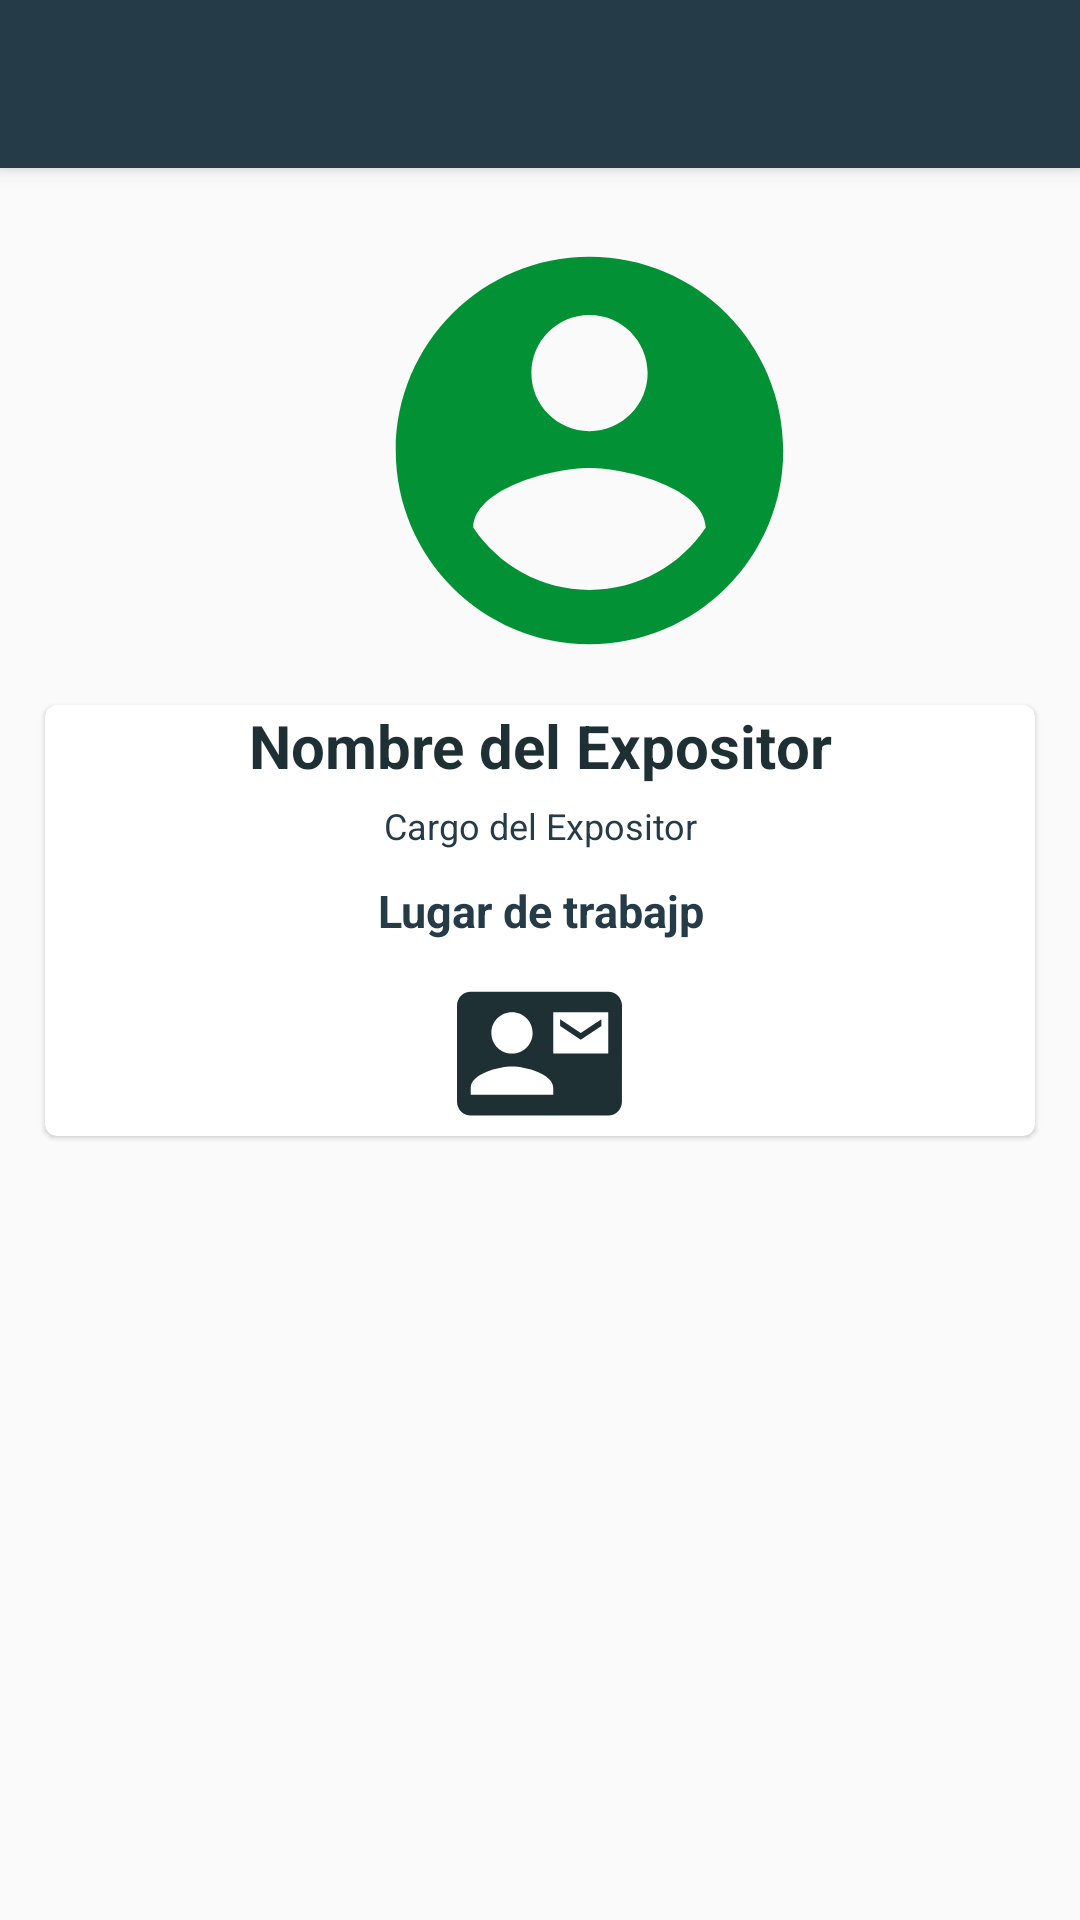

Icon click points for this 1080px×1920px phone screenshot, format (x,y):
correo: (539,1053)
